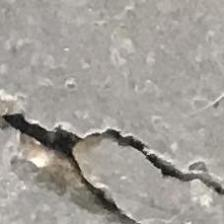Crack: (0, 99, 224, 224)
